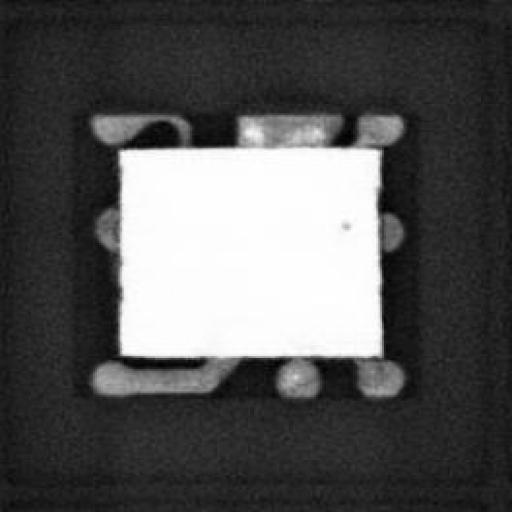DIE_INK: (334, 213, 353, 230)
